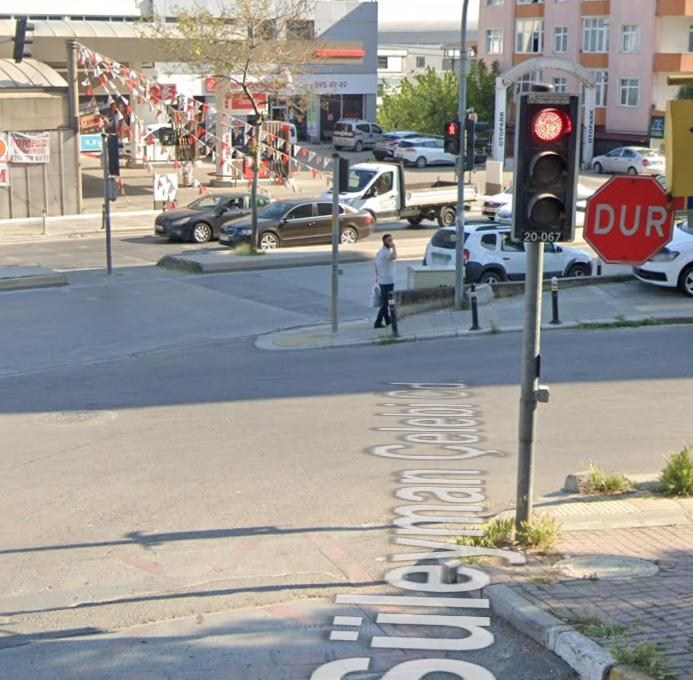redlight: (522, 97, 575, 241)
